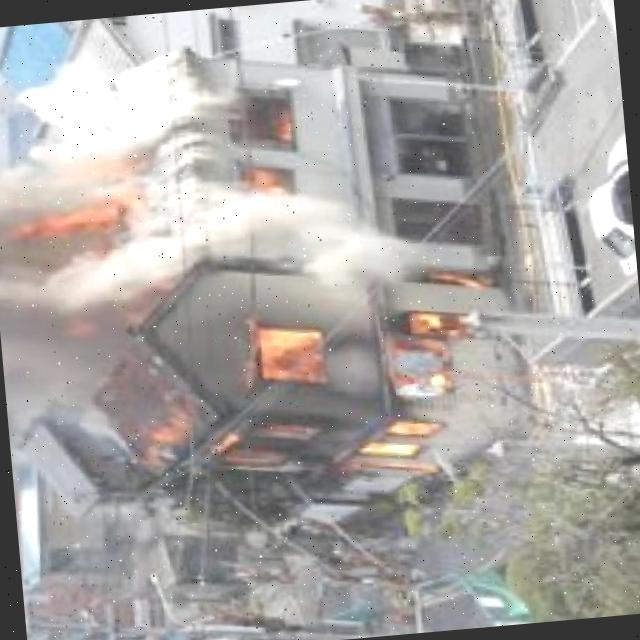fire: (112, 266, 504, 522), (0, 154, 147, 276), (249, 99, 312, 204)
